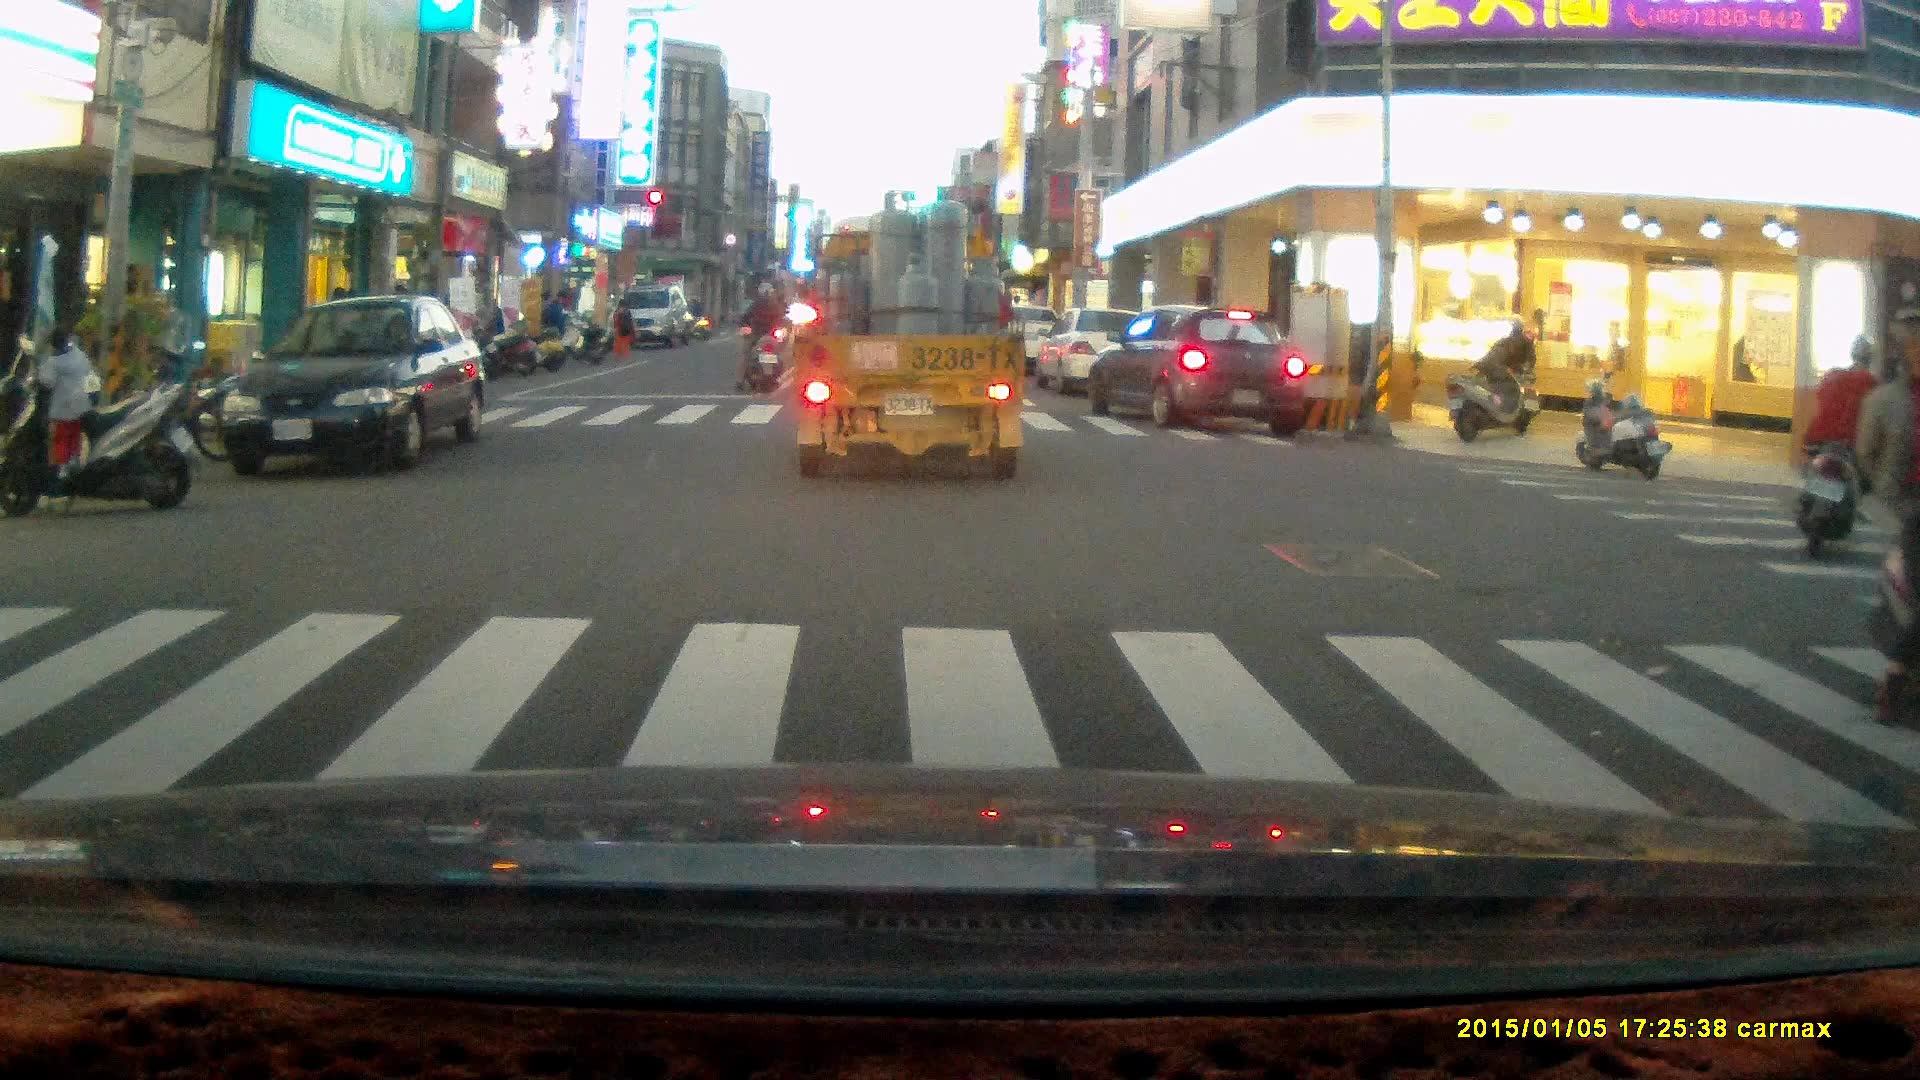pedestrian: (36, 323, 91, 478), (541, 285, 571, 355), (611, 296, 632, 358)
rider: (1852, 308, 1920, 725), (1793, 327, 1902, 562), (1481, 311, 1541, 436), (728, 272, 789, 396)
vehicle: (788, 188, 1024, 482), (220, 293, 487, 476), (1083, 308, 1311, 433), (1036, 307, 1171, 399), (610, 281, 689, 343)
